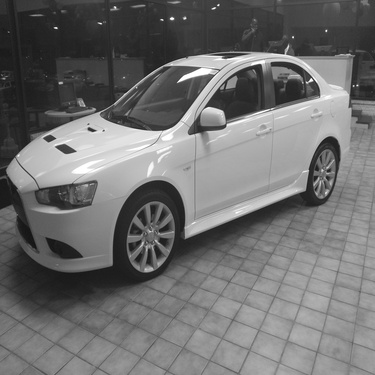car: (4, 47, 357, 292)
